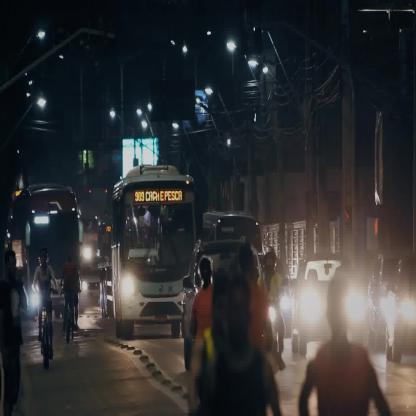bus: (113, 164, 194, 339)
car: (182, 240, 264, 371)
motorcycle: (35, 250, 56, 364), (62, 256, 79, 346)
